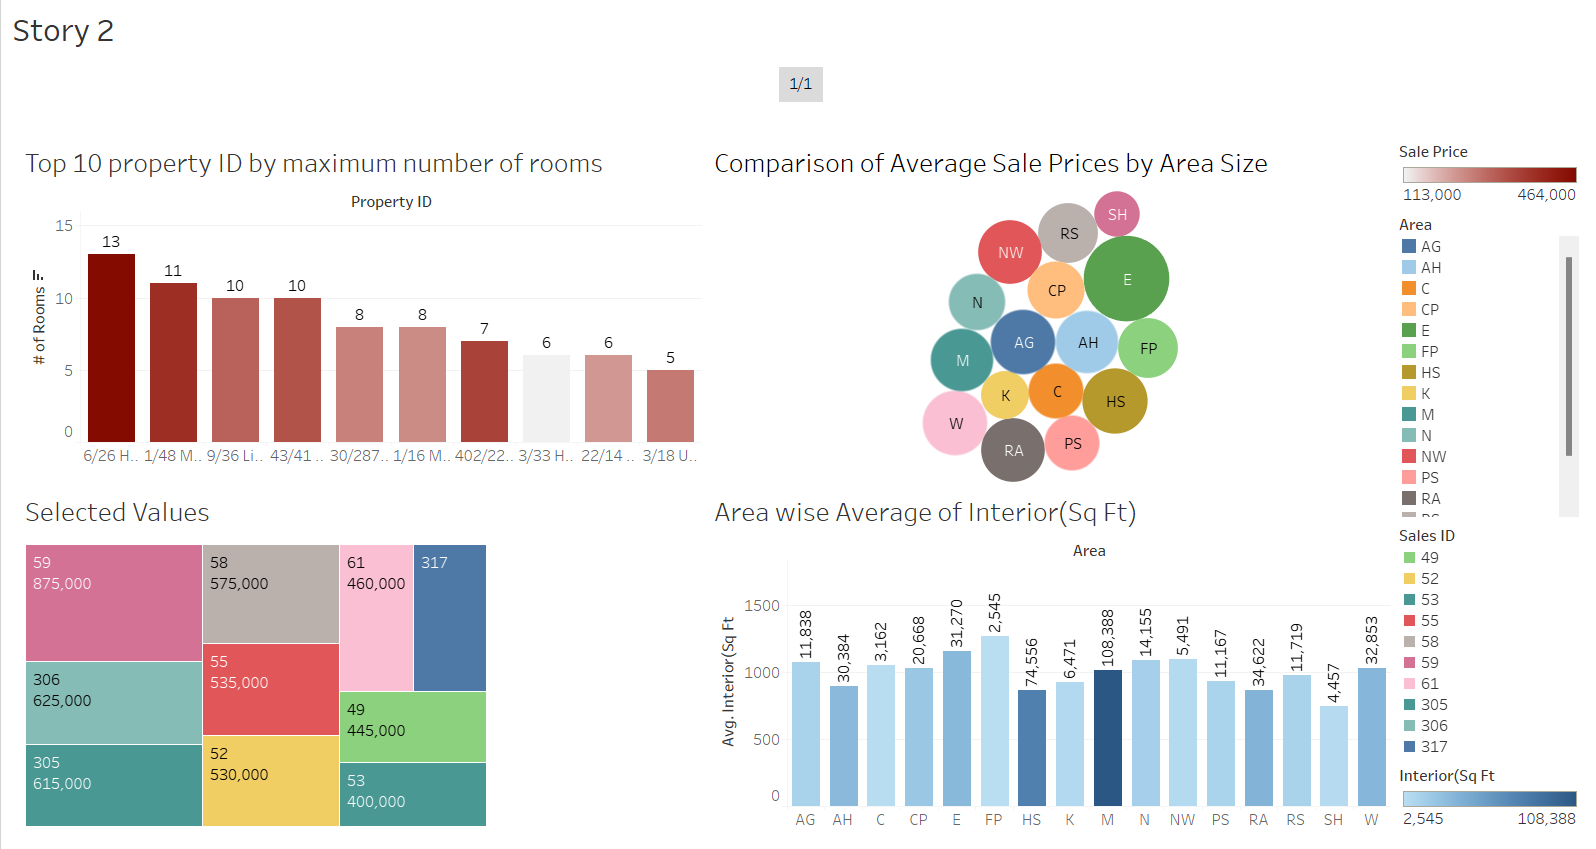

What the dashboard file says about the page in this screenshot:
{"tool":"tableau","page":{"name":"Dashboard 2","canvas":[1000,1000],"units":"permille","ordinal":1},"visuals":[{"type":"worksheet","title":"Top 10 Room","mark":"Automatic","rows":["# of Rooms"],"cols":["Property_ID"],"box":[4.9,9.4,436.8,490.6]},{"type":"worksheet","title":"Comparison","mark":"Circle","box":[441.7,9.4,436.8,490.6]},{"type":"legend","title":"Top 10 Room","param":"[federated.1k0x2sf1abp65l11o5wes16vvt3f].[sum:Sale Price:qk]","box":[878.5,9.4,116.6,85.8]},{"type":"legend","title":"Comparison","param":"[federated.1k0x2sf1abp65l11o5wes16vvt3f].[none:Area:nk]","box":[878.5,95.2,116.6,430.1]},{"type":"worksheet","title":"Selected Values","mark":"Automatic","box":[4.9,500,436.8,490.6]},{"type":"worksheet","title":"Area","mark":"Automatic","rows":["Interior(Sq Ft"],"cols":["Area"],"box":[441.7,500,436.8,490.6]},{"type":"legend","title":"Selected Values","param":"[federated.1k0x2sf1abp65l11o5wes16vvt3f].[none:Sales_ID:ok]","box":[878.5,525.3,116.6,282]},{"type":"legend","title":"Area","param":"[federated.1k0x2sf1abp65l11o5wes16vvt3f].[sum:Interior(Sq Ft:qk]","box":[878.5,807.3,116.6,85.8]}]}

Visuals, with their boxes on the dashboard's canvas, which has no fixed pixel size, in thousandths of its width and height (x1, y1, x2, y2). These are canvas units, not pixel positions in the 1596x849 screenshot, which may show the page scaled, cropped or inside an application window:
"Top 10 Room" worksheet: crop(5, 9, 442, 500)
"Comparison" worksheet (Circle marks): crop(442, 9, 878, 500)
"Top 10 Room" legend: crop(878, 9, 995, 95)
"Comparison" legend: crop(878, 95, 995, 525)
"Selected Values" worksheet: crop(5, 500, 442, 991)
"Area" worksheet: crop(442, 500, 878, 991)
"Selected Values" legend: crop(878, 525, 995, 807)
"Area" legend: crop(878, 807, 995, 893)
